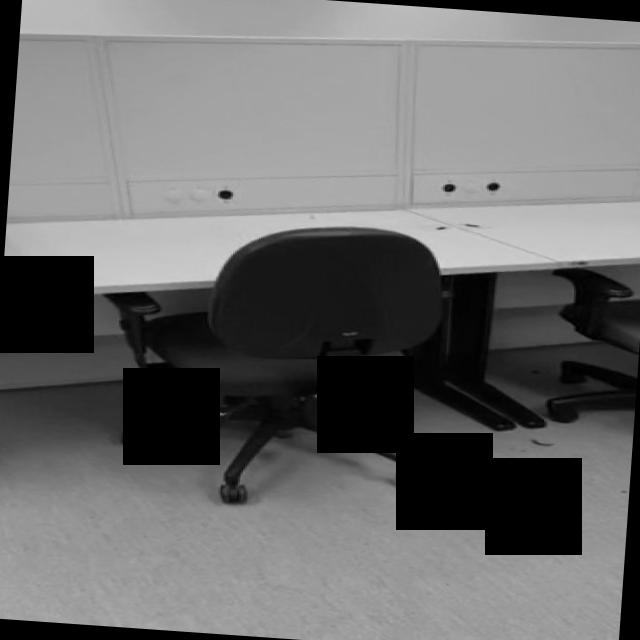cadeira-azul: (88, 207, 447, 516)
